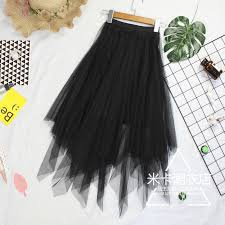C_skirt: (26, 14, 181, 216)
